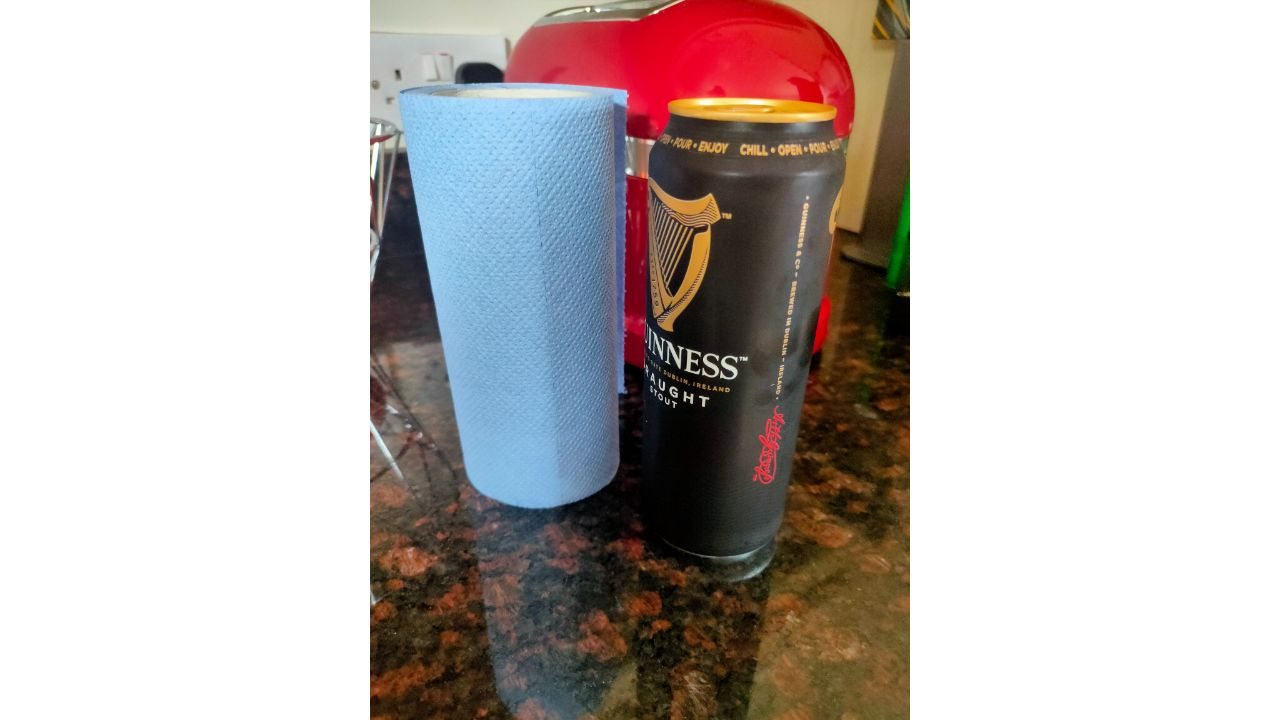Can: (639, 98, 842, 589)
